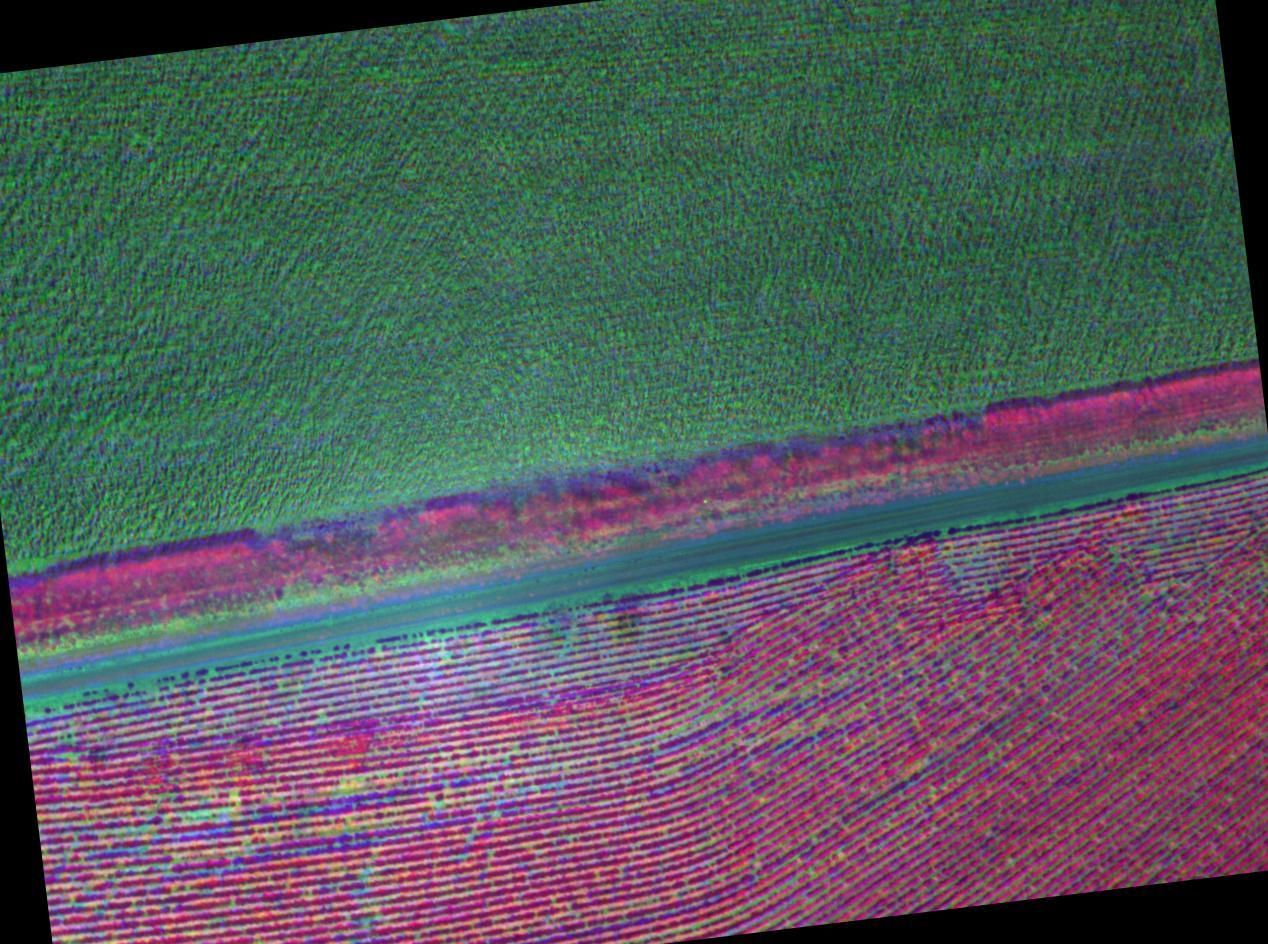dc: (145, 781, 272, 842), (312, 753, 432, 814), (595, 588, 670, 670)
